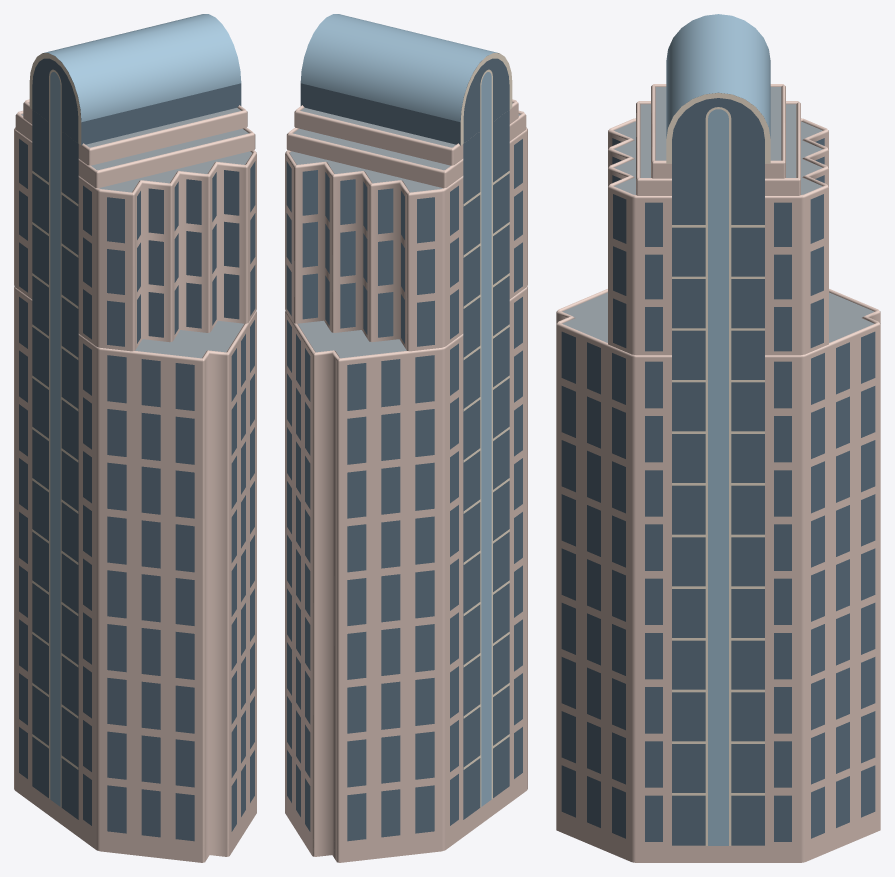
The model's file is one-wells-fargo-center.glb.
3 views of the same model, side by side, from view 1: azimuth 30°, elevation 25°; view 2: azimuth 150°, elevation 25°; view 3: azimuth 270°, elevation 25° (orthographic).
Visible parts, largest first — view 1: One Wells Fargo Center; view 2: One Wells Fargo Center; view 3: One Wells Fargo Center.
Boxes of the visible parts, <box> form: One Wells Fargo Center: <box>14,14,256,862</box>; One Wells Fargo Center: <box>285,14,527,862</box>; One Wells Fargo Center: <box>556,14,880,862</box>.
Bounding box in the file's own units: 39.28 × 179 × 68.29.
